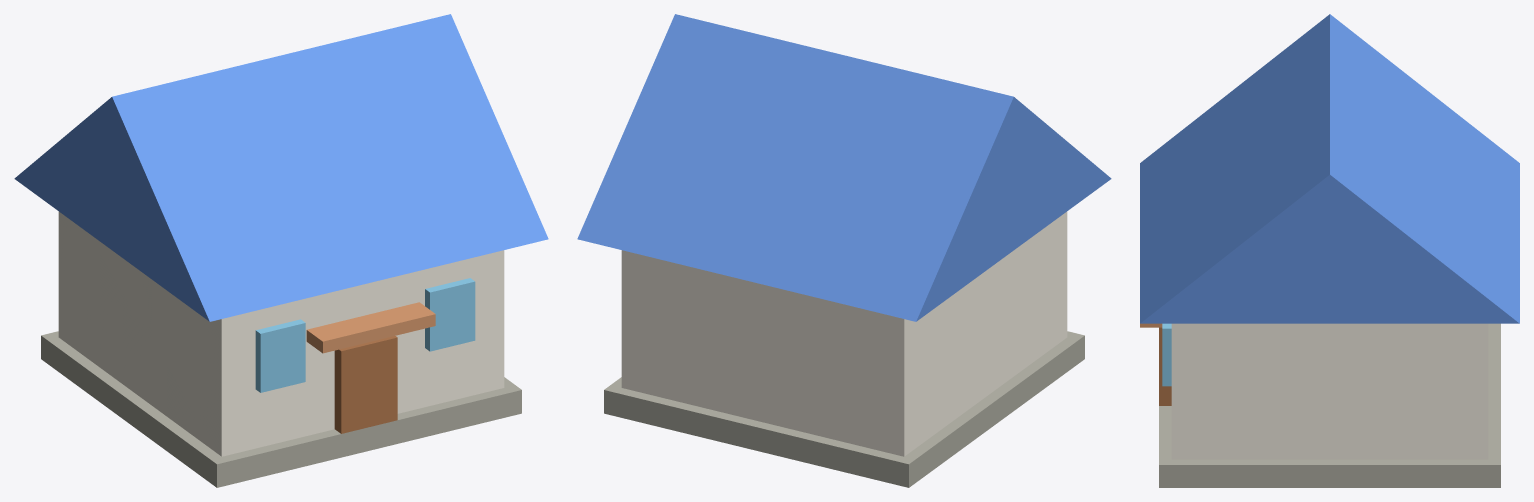
Rendered from house_t1_v4.glb.
The picture shows the model from 3 angles, left to right: view 1: azimuth 30°, elevation 25°; view 2: azimuth 150°, elevation 25°; view 3: azimuth 270°, elevation 25°; orthographic projection. The views are drawn at different scales.
Parts seen in each view (by area): view 1: house_t1_v4; view 2: house_t1_v4; view 3: house_t1_v4.
Part boxes in pixels (box(x1,y1,x2,y2)): house_t1_v4: box(14, 14, 548, 487); house_t1_v4: box(577, 14, 1111, 487); house_t1_v4: box(1140, 14, 1519, 487).
Bounding box in the file's own units: 0.6 × 0.56 × 0.6.
1 material, 1 textured.
